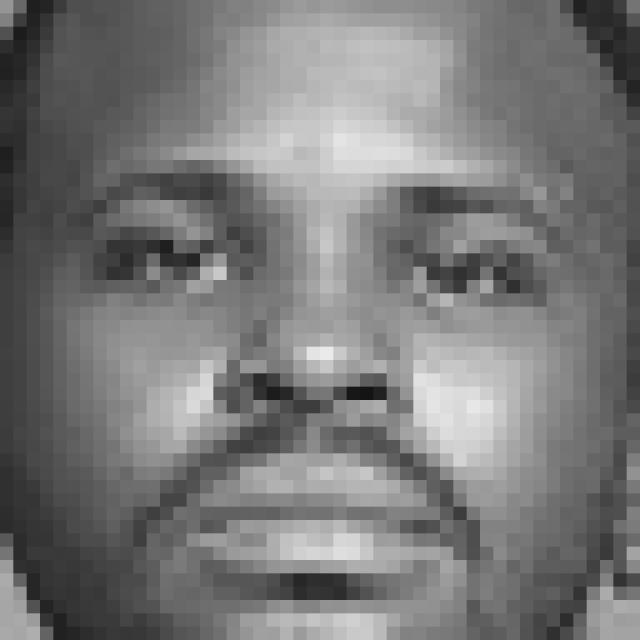neutral: (72, 147, 591, 600)
